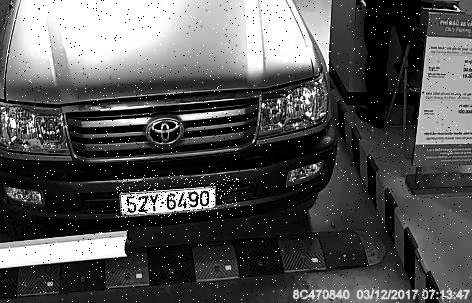License-plate: (116, 176, 241, 219)
